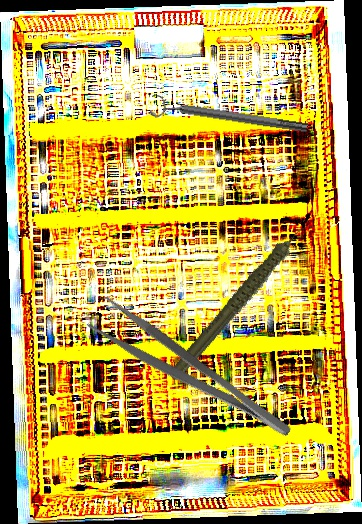Dressing Forceps: (85, 293, 295, 457)
Fixation Ring: (149, 91, 309, 142)
Handpiece: (142, 219, 343, 384)
